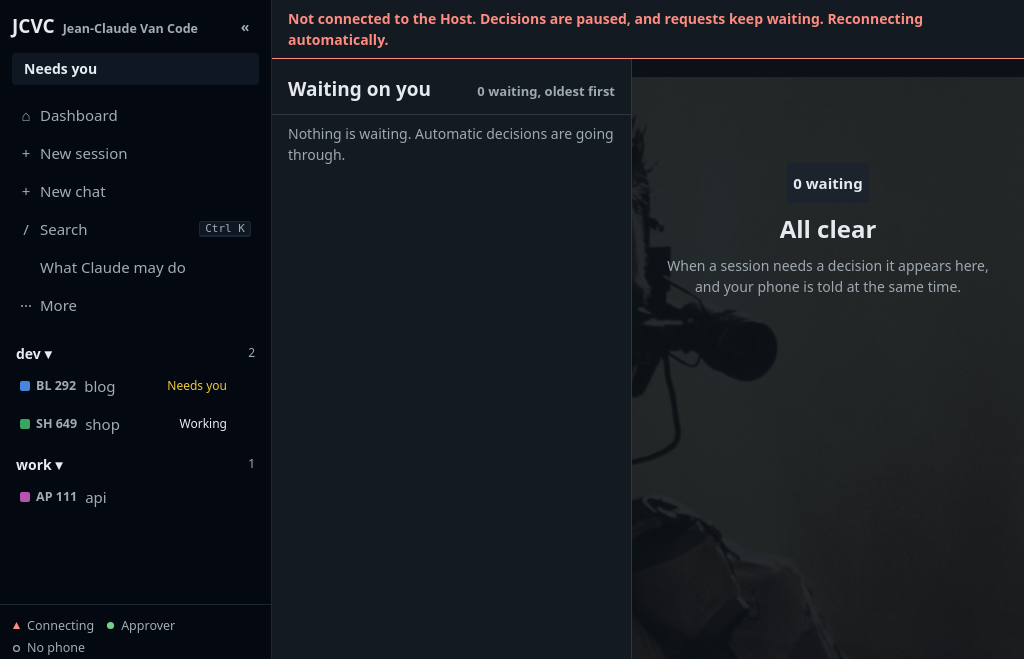
Scenario: the sidebar › lets you choose which pages sit in it, and remembers
Click the button with aria-label "More pages". click: (136, 304)
box: top-left (8, 286), bottom-right (263, 322)
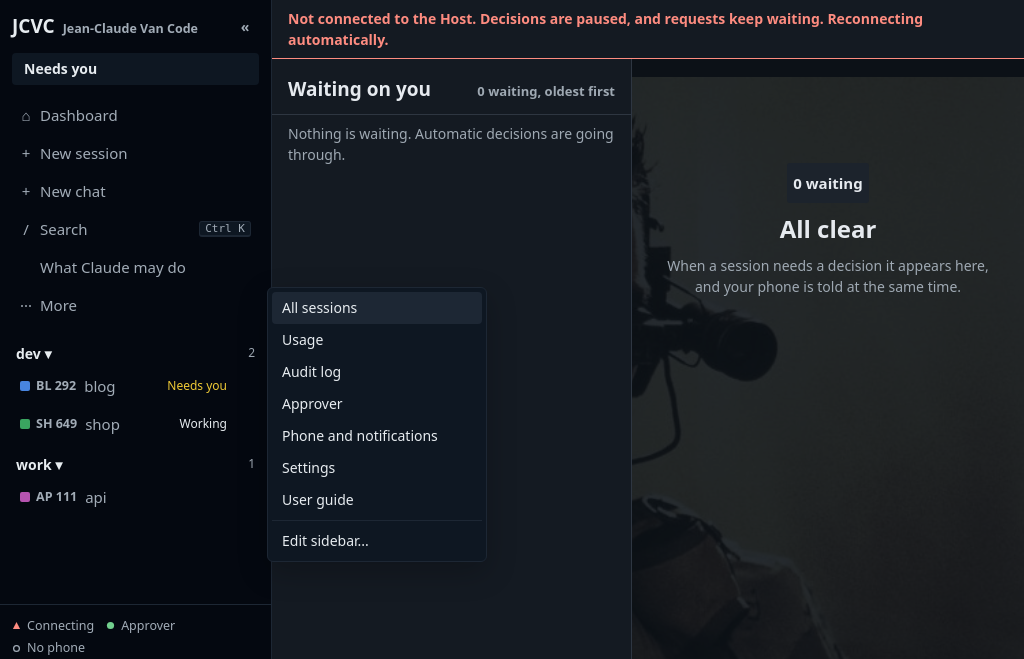
Click the menu item "Edit sidebar...". click: (377, 540)
box: top-left (272, 524), bottom-right (482, 556)
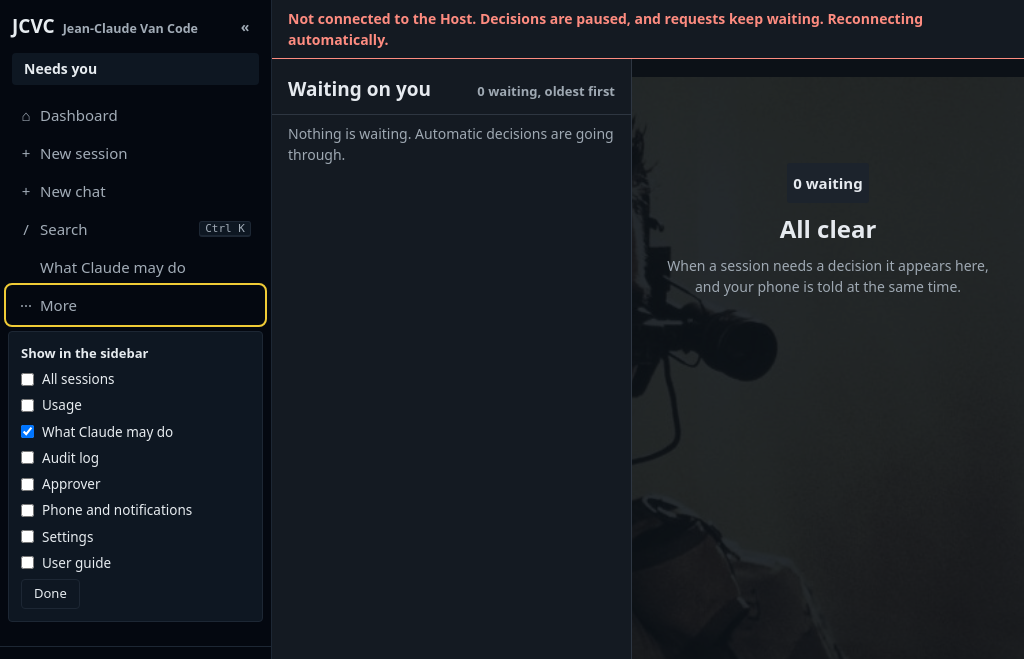
Click the checkbox labelled "Audit log". click: (28, 458)
box: top-left (21, 451), bottom-right (34, 464)
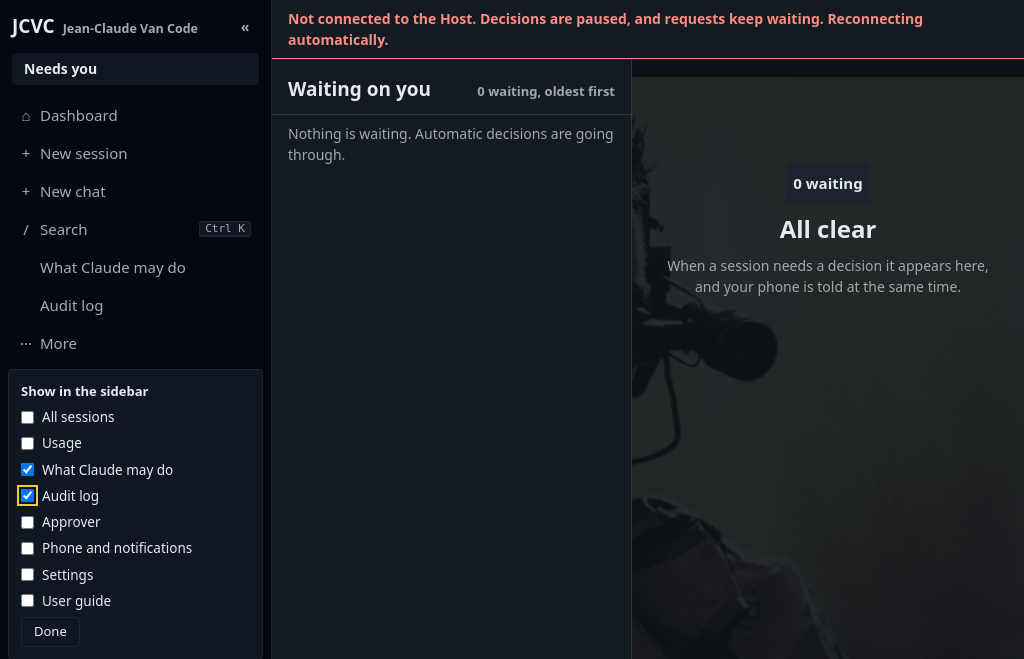
Check: the button "Audit log" is shown, box top-left (8, 286), bottom-right (263, 322)
